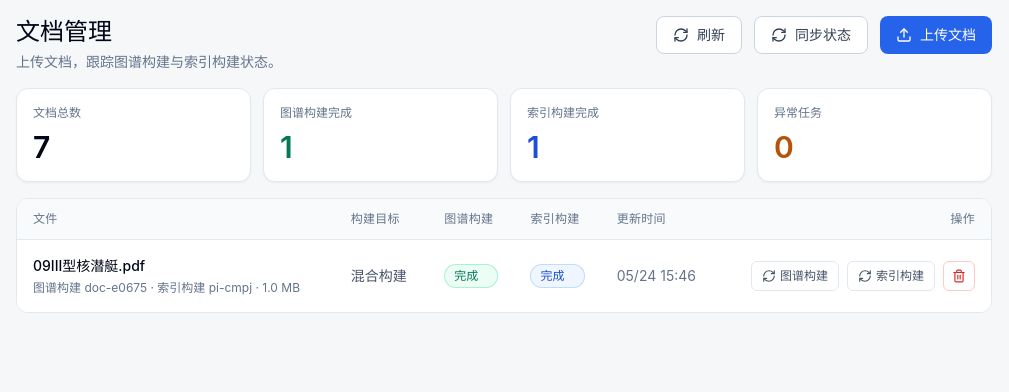
Test: DocumentsPage › keeps sync errors visible after refreshing the document list
Check: the text "09III型核潜艇.pdf" is shown, box [33,257,145,274]
Click the button "同步状态" at (811, 35), box [754,16,868,54]
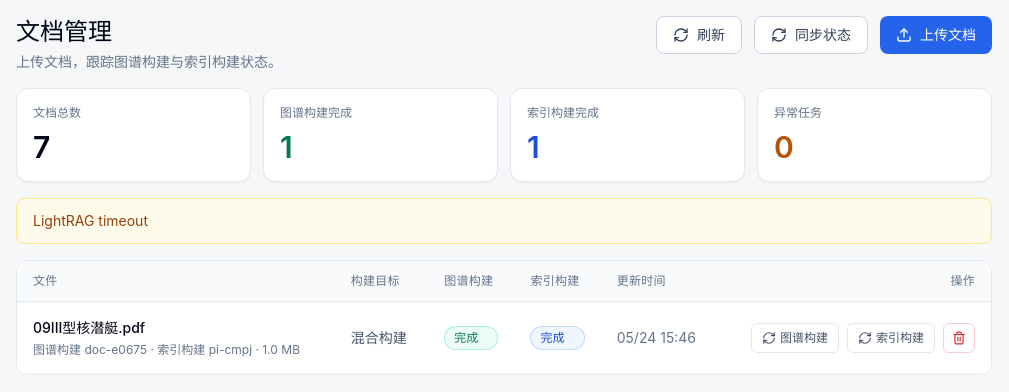
Check: the text "LightRAG timeout" is shown, box [16,198,992,244]
